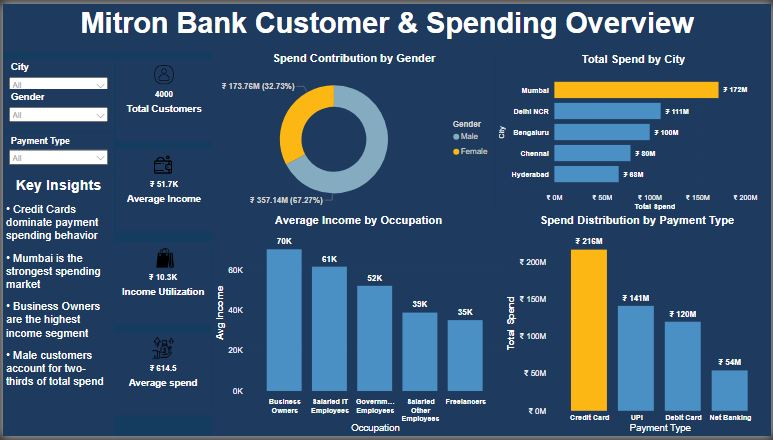

The dashboard page shown, as its layout file describes it:
{"tool":"powerbi","page":{"name":"Customer & Spending Overview","canvas":[1280,720],"ordinal":0},"visuals":[{"type":"card","fields":{"Values":["Count(dim_customers.customer_id)"]},"box":[188.3,91.7,160,138.3],"z":0,"group":"g1"},{"type":"clusteredColumnChart","title":"Spend Distribution by Payment Type","fields":{"Category":["fact_spends.payment_type"],"Y":["Sum(fact_spends.spend)"]},"box":[833.3,350,446.7,370],"z":0},{"type":"card","fields":{"Values":["Avg(dim_customers.avg_income)"]},"box":[188.3,241.7,160,138.3],"z":1000,"group":"g2"},{"type":"clusteredColumnChart","title":"Average Income by Occupation","fields":{"Category":["dim_customers.occupation"],"Y":["dim_customers.Avg Income"]},"box":[348.3,350,488.3,370],"z":1000},{"type":"clusteredBarChart","fields":{"Category":["dim_customers.city"],"Y":["dim_customers.Total Spend"]},"box":[821.7,81.7,446.7,268.3],"z":2000},{"type":"card","fields":{"Values":["Avg(fact_spends.spend)"]},"box":[185,548.3,160,138.3],"z":2000,"group":"g3"},{"type":"donutChart","title":"Spend Contribution by Gender","fields":{"Category":["dim_customers.gender"],"Y":["dim_customers.Total Spend"]},"box":[348.3,80,473.3,270],"z":3000},{"type":"card","fields":{"Values":["dim_customers.Income Utilization"]},"box":[186.7,396.7,160,138.3],"z":3000,"group":"g4"},{"type":"group","id":"g1","title":"Group 1","box":[188.3,91.7,160,138.3],"z":4000},{"type":"group","id":"g2","title":"Group 2","box":[188.3,241.7,160,138.3],"z":5000},{"type":"group","id":"g3","title":"Group 3","box":[185,548.3,160,138.3],"z":6000},{"type":"group","id":"g4","title":"Group 4","box":[186.7,396.7,160,138.3],"z":7000},{"type":"slicer","fields":{"Values":["dim_customers.city"]},"box":[0,66.7,185,66.7],"z":8000},{"type":"image","box":[238.3,101.7,60,31.7],"z":8000,"group":"g1"},{"type":"textbox","box":[0,0,1280,80],"z":9000},{"type":"image","box":[230.9,251.7,69.8,31.7],"z":9000,"group":"g2"},{"type":"slicer","fields":{"Values":["dim_customers.gender"]},"box":[0,133.3,171.7,70],"z":10000},{"type":"image","box":[236.7,406.7,66.7,33.3],"z":10000,"group":"g4"},{"type":"slicer","fields":{"Values":["fact_spends.payment_type"]},"box":[0,203.3,171.7,80],"z":11000},{"type":"image","box":[235.5,555,58.9,36.7],"z":11000,"group":"g3"},{"type":"textbox","box":[0,283.3,171.7,436.7],"z":12000}]}

Visuals, with their boxes in screenshot pixels (x1, y1, x2, y2), scaled from the page's 1280x720 canvas onto the 773x440 screenshot:
card - Count(dim_customers.customer_id): box(114, 56, 210, 141)
"Spend Distribution by Payment Type" clusteredColumnChart: box(503, 214, 772, 439)
card - Avg(dim_customers.avg_income): box(114, 148, 210, 232)
"Average Income by Occupation" clusteredColumnChart: box(210, 214, 505, 439)
clusteredBarChart - dim_customers.city x dim_customers.Total Spend: box(496, 50, 766, 214)
card - Avg(fact_spends.spend): box(112, 335, 208, 420)
"Spend Contribution by Gender" donutChart: box(210, 49, 496, 214)
card - dim_customers.Income Utilization: box(113, 242, 209, 327)
"Group 1" group: box(114, 56, 210, 141)
"Group 2" group: box(114, 148, 210, 232)
"Group 3" group: box(112, 335, 208, 420)
"Group 4" group: box(113, 242, 209, 327)
slicer - dim_customers.city: box(0, 41, 112, 82)
image: box(144, 62, 180, 82)
textbox: box(0, 0, 772, 49)
image: box(139, 154, 182, 173)
slicer - dim_customers.gender: box(0, 81, 104, 124)
image: box(143, 249, 183, 269)
slicer - fact_spends.payment_type: box(0, 124, 104, 173)
image: box(142, 339, 178, 362)
textbox: box(0, 173, 104, 439)
